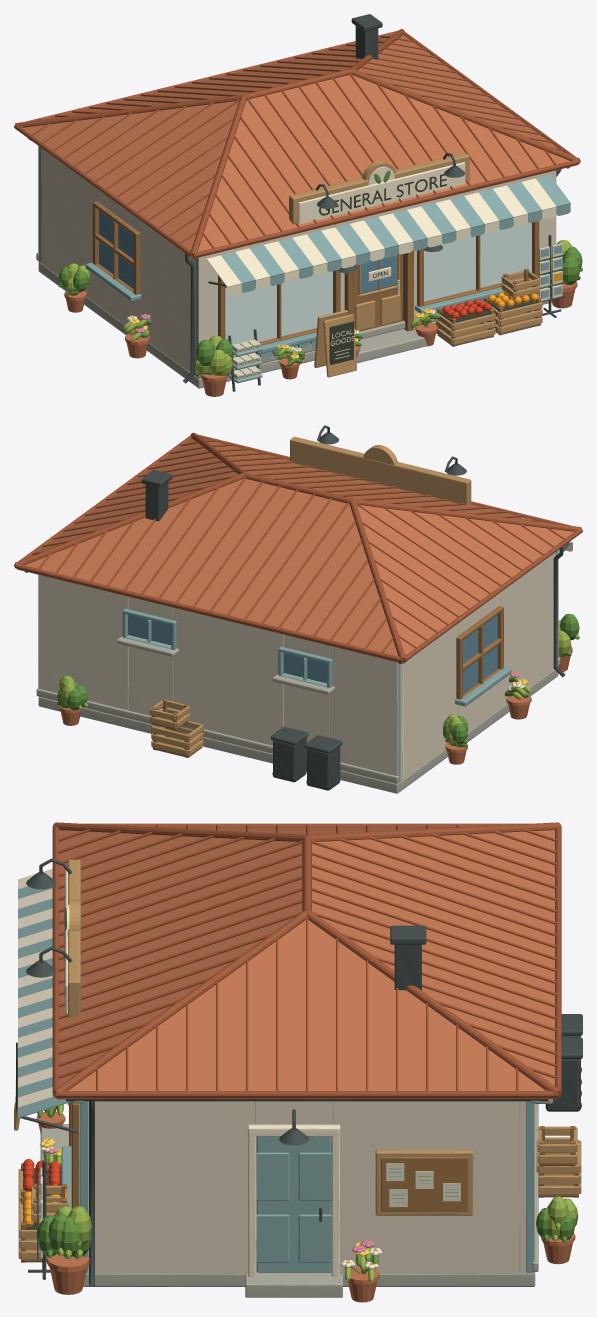
Rendered from SM_GeneralStore_Blockout.fbx.
3 renders of one model, top to bottom at view 1: azimuth 30°, elevation 25°; view 2: azimuth 150°, elevation 25°; view 3: azimuth 270°, elevation 25°, orthographic. The views are drawn at different scales.
Visible parts, largest first — view 1: SM_GeneralStore_Blockout; view 2: SM_GeneralStore_Blockout; view 3: SM_GeneralStore_Blockout.
Part boxes in pixels (x1,y1,x2,y2): SM_GeneralStore_Blockout: (14,14,582,396); SM_GeneralStore_Blockout: (14,425,582,793); SM_GeneralStore_Blockout: (14,822,582,1302).
Size of the model in its own units: 1032 by 873 by 516.
